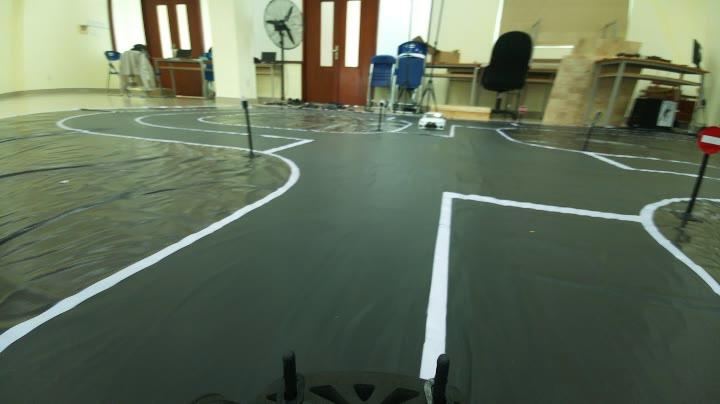no_entry: (695, 124, 720, 157)
